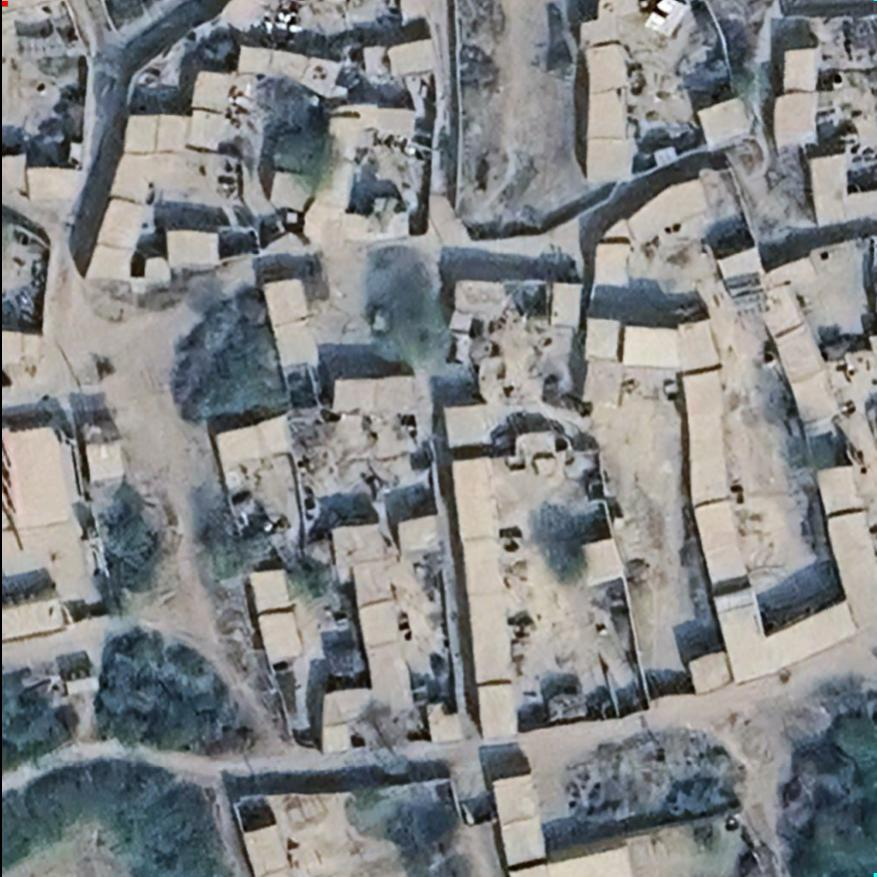Solarpanel: (726, 285, 773, 324)
